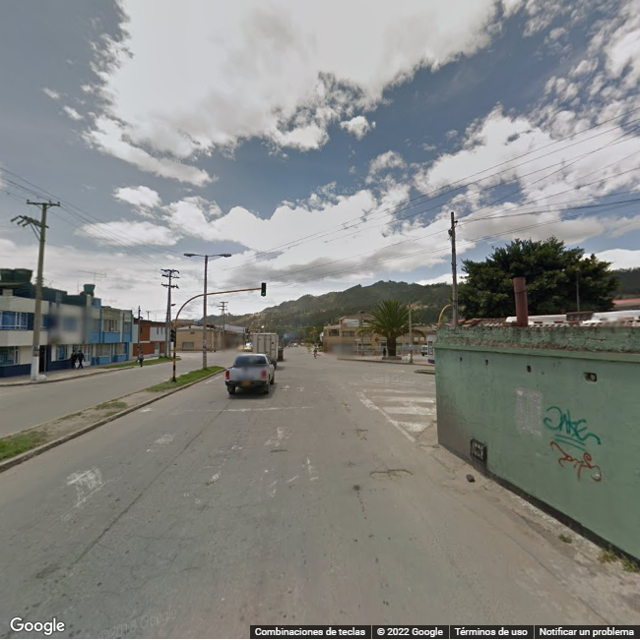D00: (113, 566, 174, 597)
D10: (135, 529, 188, 545)
D40: (371, 460, 410, 485)
